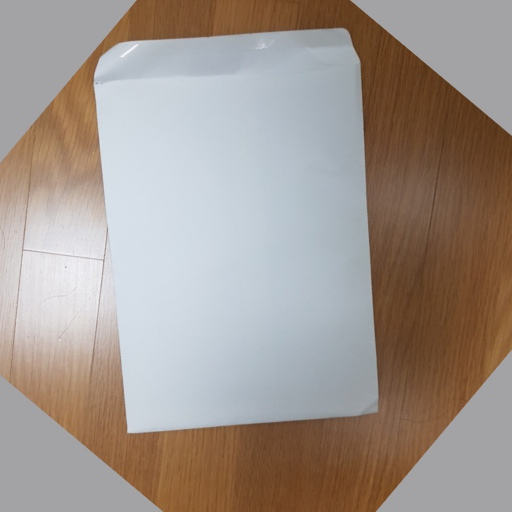Paper_2: (95, 26, 387, 446)
